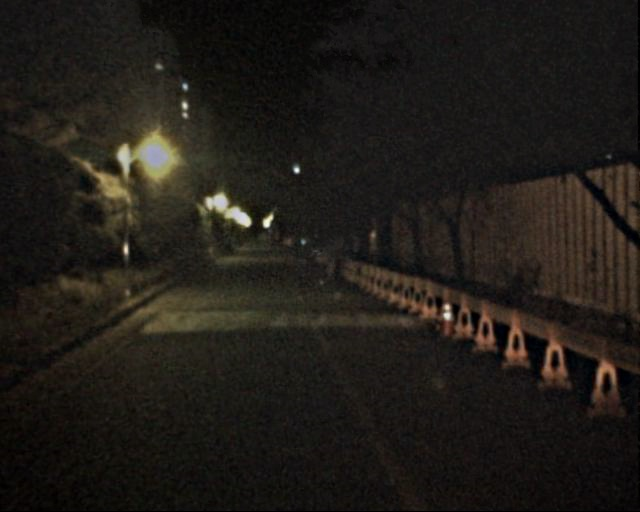person: (328, 239, 344, 279), (297, 236, 313, 276), (321, 242, 336, 278), (290, 237, 302, 266)
